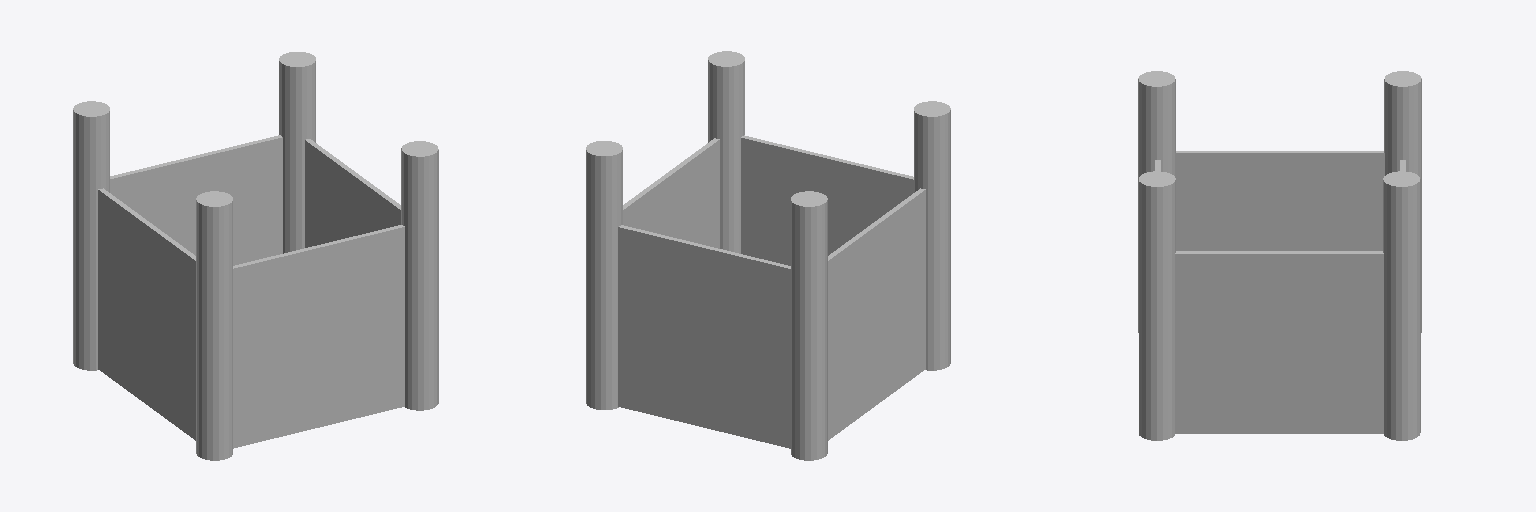
The model's file is walldouble16.obj.
3 views of the same model, side by side, from view 1: azimuth 30°, elevation 25°; view 2: azimuth 150°, elevation 25°; view 3: azimuth 270°, elevation 25° (orthographic).
Visible parts, largest first — view 1: walldouble16; view 2: walldouble16; view 3: walldouble16.
Part boxes in pixels (x1,y1,x2,y2): walldouble16: (73, 52, 438, 460); walldouble16: (586, 51, 950, 460); walldouble16: (1138, 71, 1421, 440).
Size of the model in its own units: 24.11 by 24.63 by 24.91.